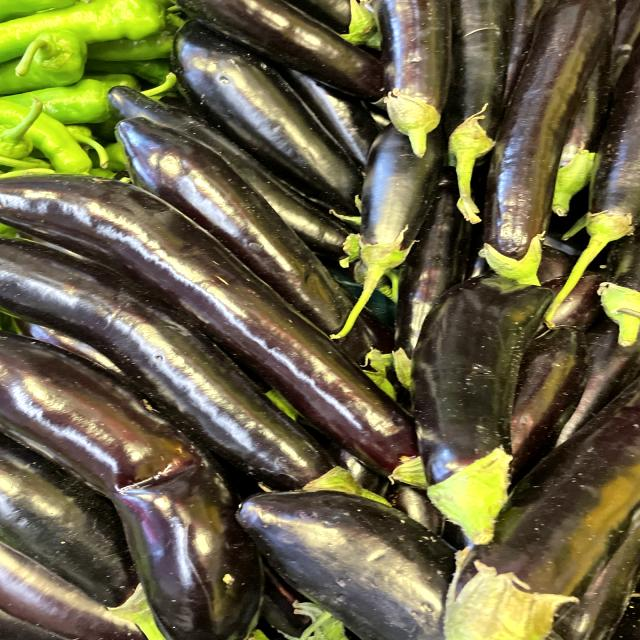eggplant: (378, 267, 566, 542), (459, 0, 637, 283), (317, 117, 456, 333)
